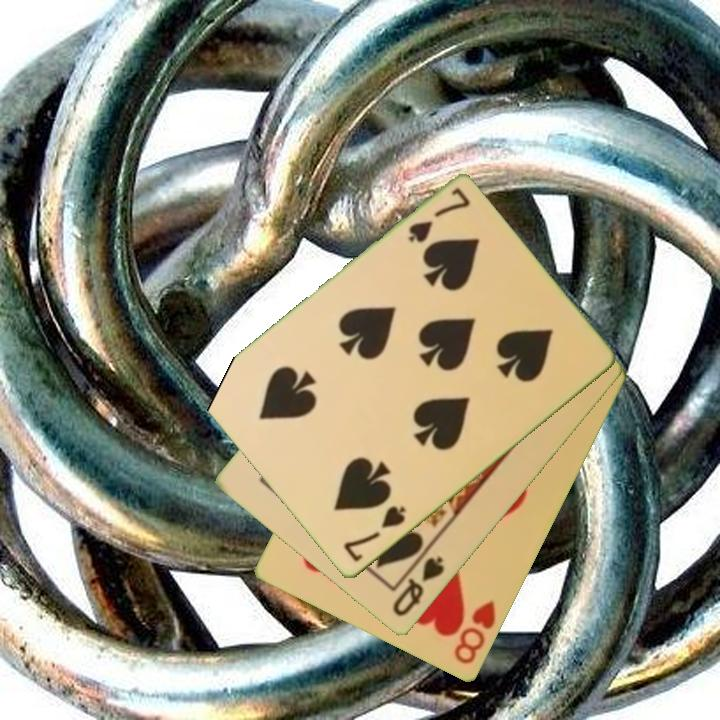7s: (340, 502, 409, 566), (404, 184, 473, 247)
8h: (450, 596, 499, 668)
Qs: (389, 553, 448, 620)
